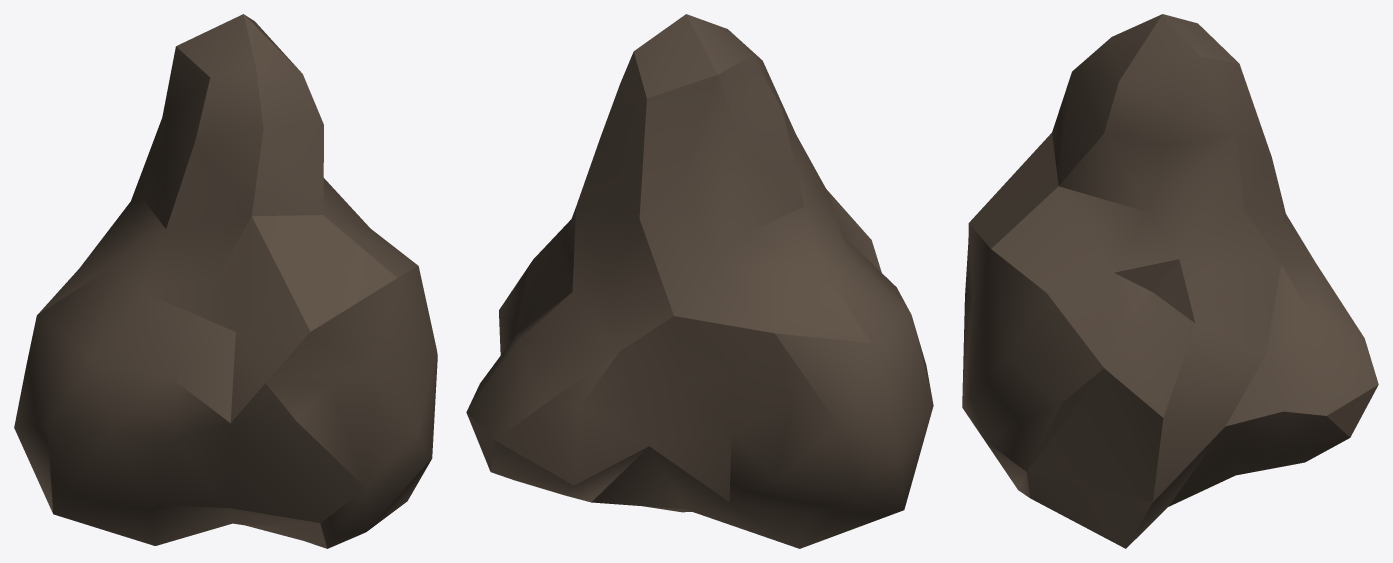
File: rock_006.fbx
3 renders of one model, left to right at view 1: azimuth 30°, elevation 25°; view 2: azimuth 150°, elevation 25°; view 3: azimuth 270°, elevation 25°, orthographic. The views are drawn at different scales.
Parts seen in each view (by area): view 1: rock.006; view 2: rock.006; view 3: rock.006.
Boxes of the visible parts, x1,y1,x2,y2 form: rock.006: (14, 14, 437, 548); rock.006: (466, 14, 933, 548); rock.006: (962, 14, 1378, 548).
Size of the model in its own units: 78.07 by 95.63 by 73.36.
